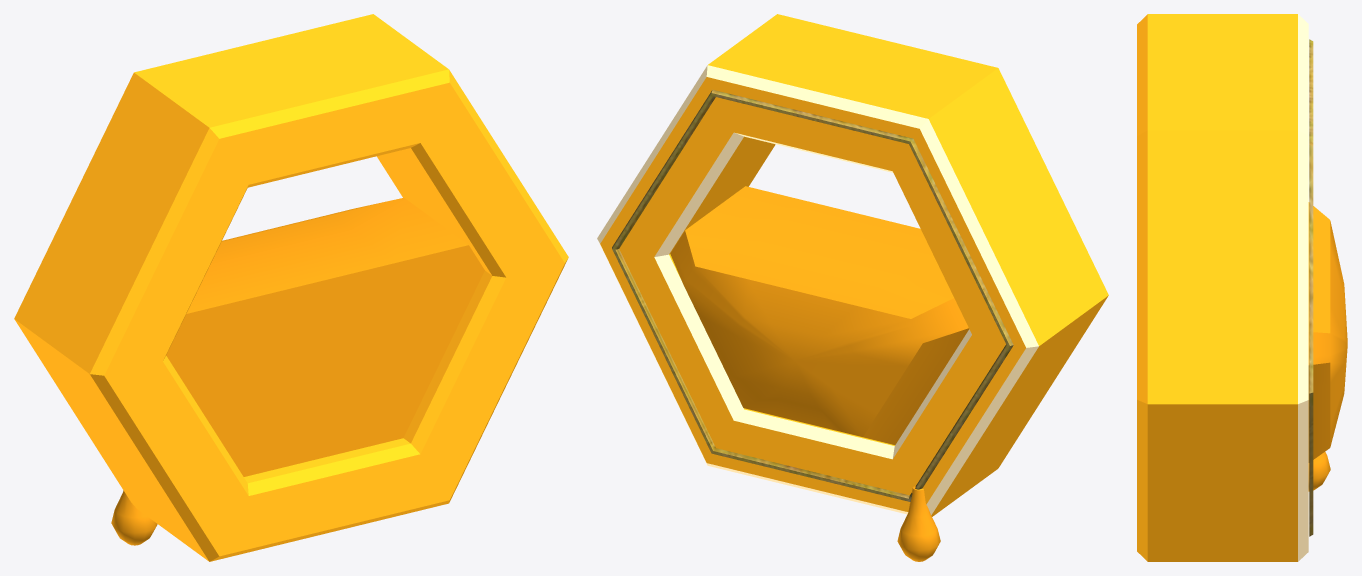
3 renders of one model, left to right at view 1: azimuth 30°, elevation 25°; view 2: azimuth 150°, elevation 25°; view 3: azimuth 270°, elevation 25°, orthographic. The views are drawn at different scales.
Parts seen in each view (by area): view 1: glow_Amber_beeswax, glow_Glossy_golden_honey; view 2: glow_Amber_beeswax, glow_Glossy_golden_honey, glow_Wax_transmitted_highlights, Fine_royal_gold; view 3: glow_Amber_beeswax, glow_Glossy_golden_honey, glow_Wax_transmitted_highlights, Fine_royal_gold.
Boxes of the visible parts, x1,y1,x2,y2 form: glow_Amber_beeswax: [14, 14, 568, 561]; glow_Glossy_golden_honey: [111, 198, 484, 545]; glow_Amber_beeswax: [600, 14, 1108, 516]; glow_Glossy_golden_honey: [670, 186, 968, 561]; glow_Wax_transmitted_highlights: [597, 65, 1038, 515]; Fine_royal_gold: [612, 89, 1013, 501]; glow_Amber_beeswax: [1137, 14, 1297, 561]; glow_Glossy_golden_honey: [1308, 202, 1347, 491]; glow_Wax_transmitted_highlights: [1298, 14, 1308, 561]; Fine_royal_gold: [1309, 39, 1313, 536].
Size of the model in its own units: 0.94 by 0.894 by 0.36.
Materials: 4 (1 with a texture image).
